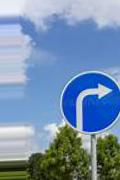right: (57, 72, 120, 134)
